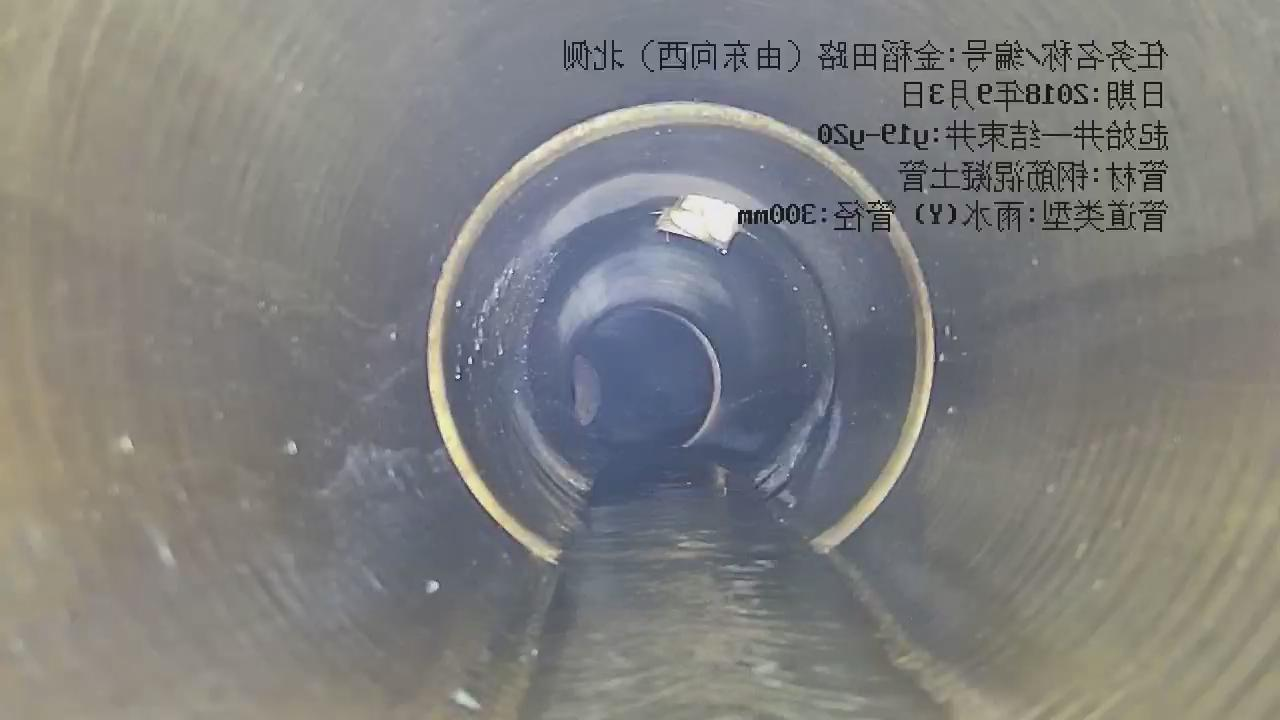CKTJ: (418, 93, 949, 573), (643, 306, 723, 446)
